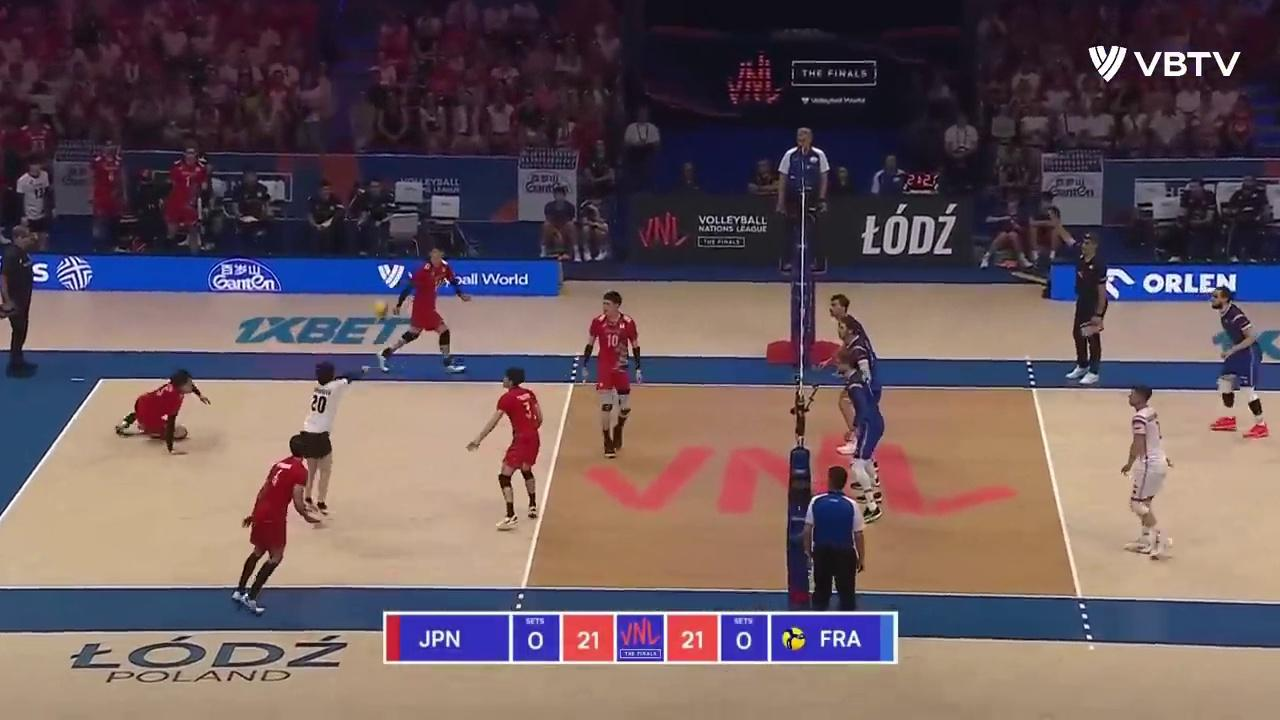ball: (375, 299, 390, 315)
